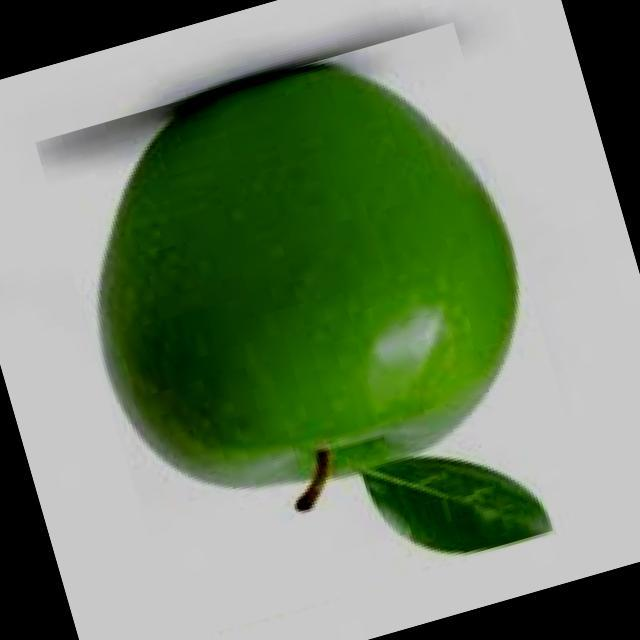Green Apple: (97, 63, 523, 500), (359, 454, 553, 556)
